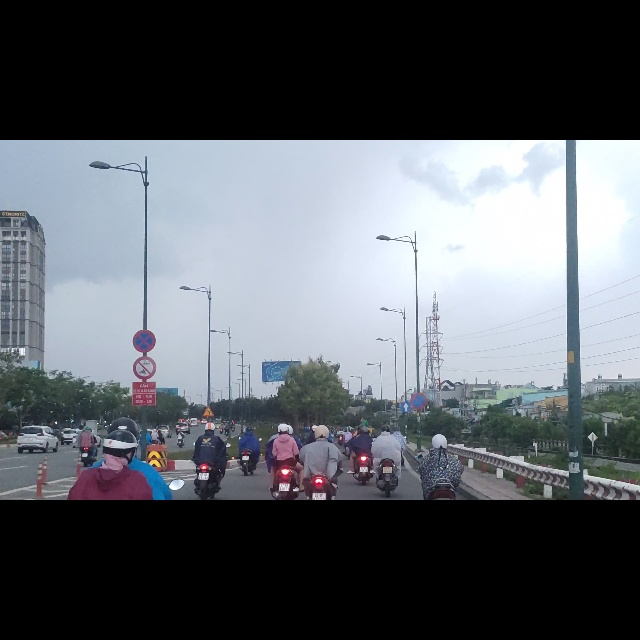bien_nguy_hiem: (133, 384, 156, 425), (133, 337, 156, 377), (411, 450, 427, 481), (203, 472, 214, 492), (401, 466, 411, 482)
